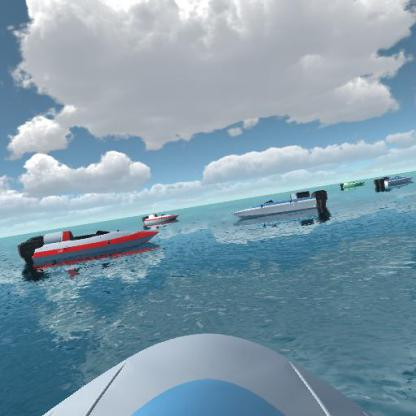usv0: (337, 178, 368, 192)
usv1: (230, 185, 331, 224), (375, 173, 415, 194)
usv3: (12, 225, 159, 267), (140, 210, 182, 229)
